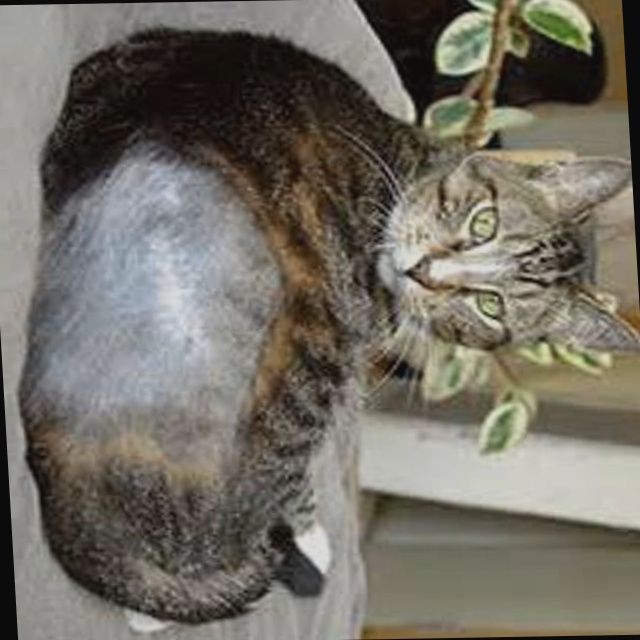hairloss: (35, 160, 277, 471)
